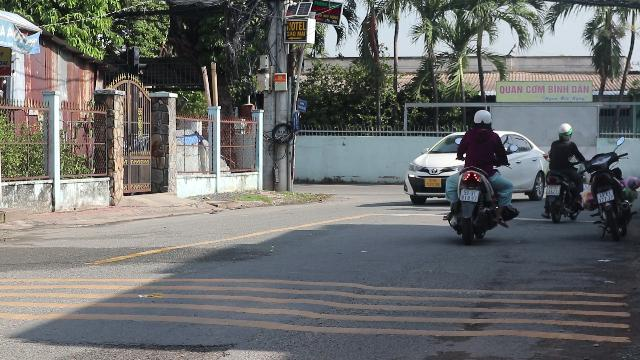helmet: (472, 109, 492, 129)
licenseplate: (459, 188, 479, 202)
motorcyclist: (442, 109, 516, 243)
